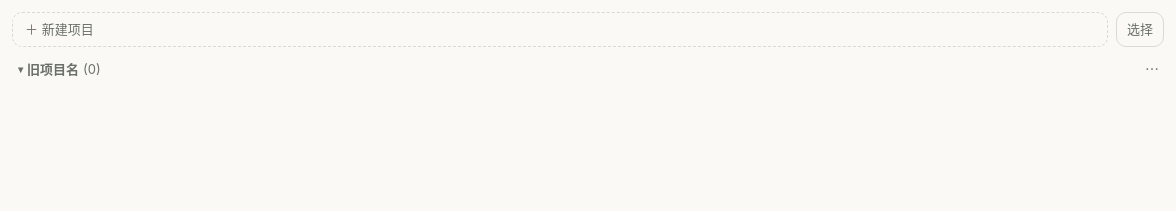
Test: SessionListPanel 会话分组树 › 项目菜单：重命名 inline 提交并刷新项目名
Click the button named "旧项目名 的菜单" at coordinates (1152, 69), box top-left (1140, 57), bottom-right (1164, 81)
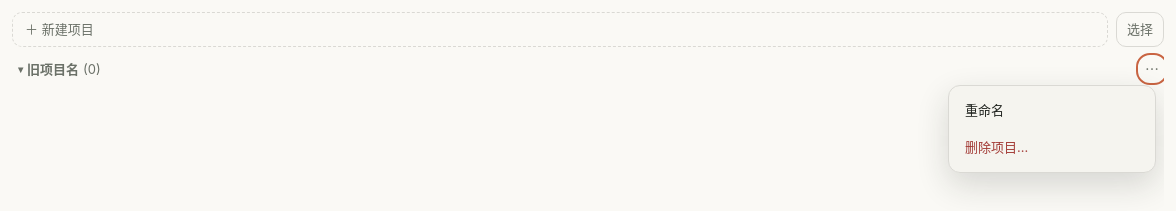
Click the menu item "重命名" at coordinates (1052, 111), box top-left (957, 94), bottom-right (1147, 127)
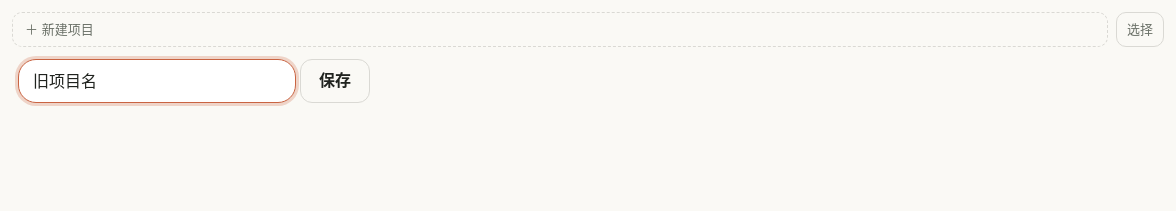
Replace the text in the field named "重命名" with "新项目名" at coordinates (157, 81), box top-left (18, 59), bottom-right (296, 103)
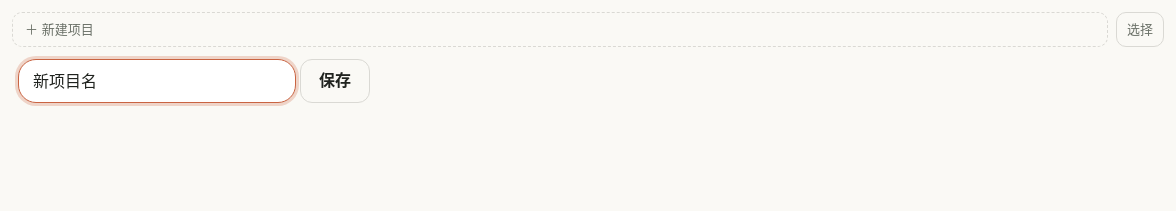
Click the button "保存" at coordinates (335, 81), box top-left (300, 59), bottom-right (370, 103)
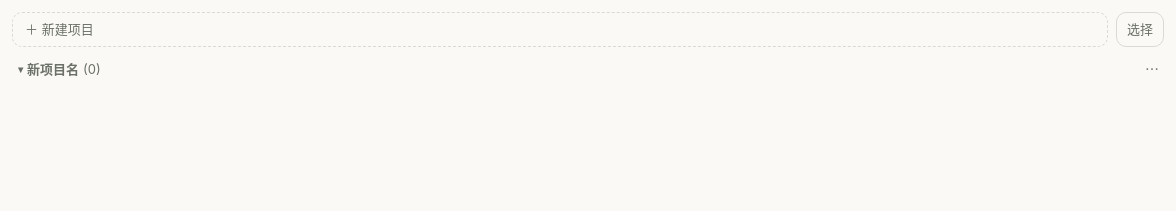
Expected: the button named "新项目名(" is shown, top-left (12, 55), bottom-right (1136, 84)
